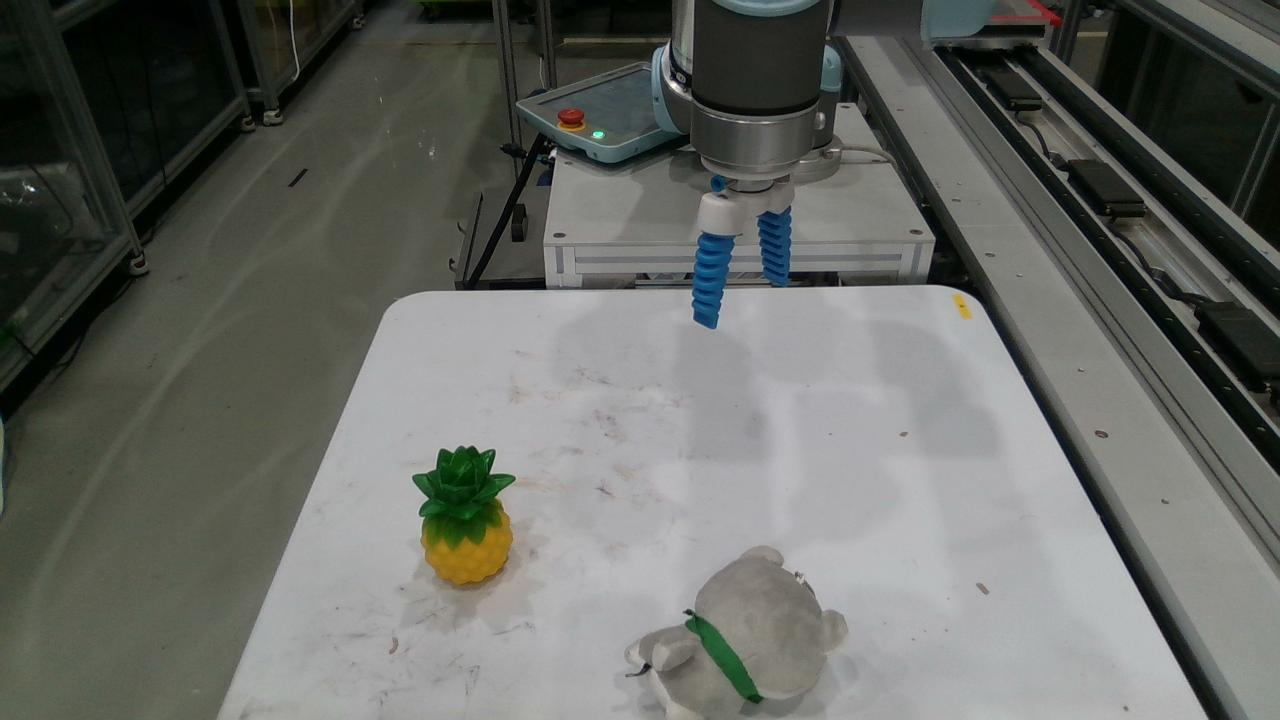UR5: (652, 0, 990, 234)
gripper_left: (694, 233, 732, 327)
gripper_right: (760, 209, 790, 286)
target: (628, 547, 846, 719), (414, 447, 510, 584)
